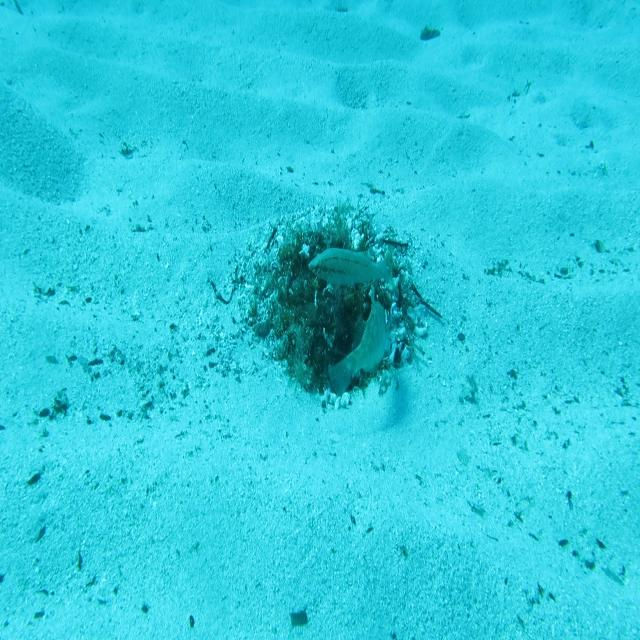BEND: (330, 282, 389, 401)
female: (308, 245, 398, 288)
nest: (225, 197, 435, 424)
vegetation: (419, 23, 443, 48), (289, 609, 308, 629)
